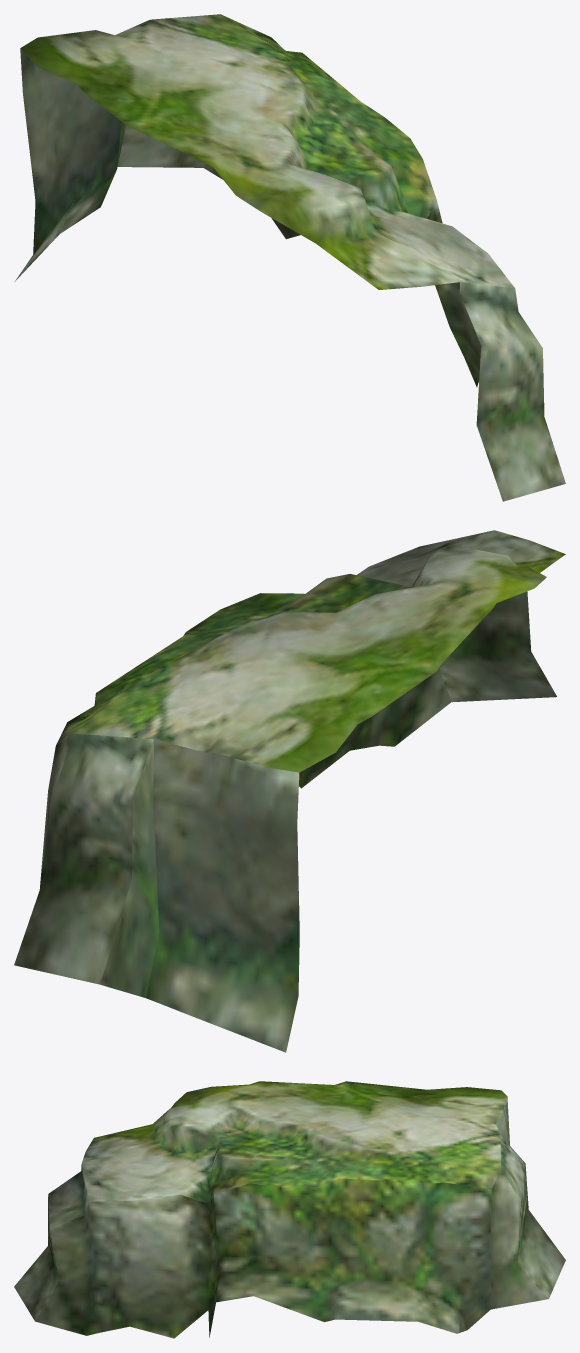
File: S_Rock_Green048_1060_17.fbx
The picture shows the model from 3 angles, top to bottom: view 1: azimuth 30°, elevation 25°; view 2: azimuth 150°, elevation 25°; view 3: azimuth 270°, elevation 25°; orthographic projection. The views are drawn at different scales.
Visible parts, largest first — view 1: S_Rock_Green048_1060_17; view 2: S_Rock_Green048_1060_17; view 3: S_Rock_Green048_1060_17.
Boxes of the visible parts, box(x1,y1,x2,y2) form: S_Rock_Green048_1060_17: box(15, 14, 565, 501); S_Rock_Green048_1060_17: box(14, 530, 565, 1052); S_Rock_Green048_1060_17: box(14, 1081, 565, 1338).
Bounding box in the file's own units: 780 × 694 × 1894.
1 material, 1 textured.
